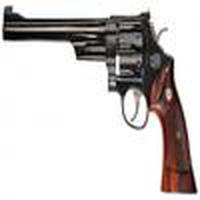gun: (4, 8, 200, 190)
